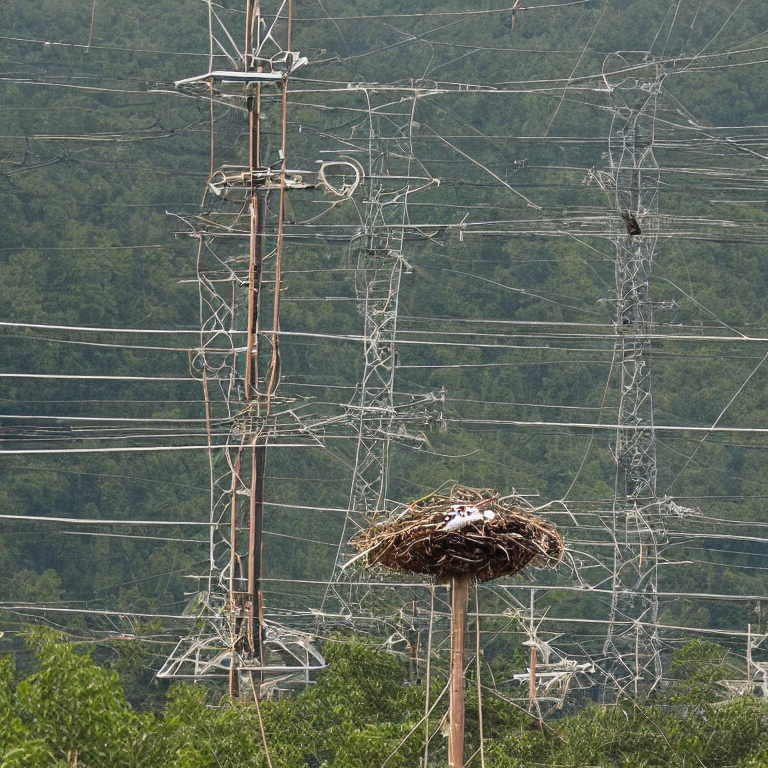nest: (374, 497, 549, 577)
